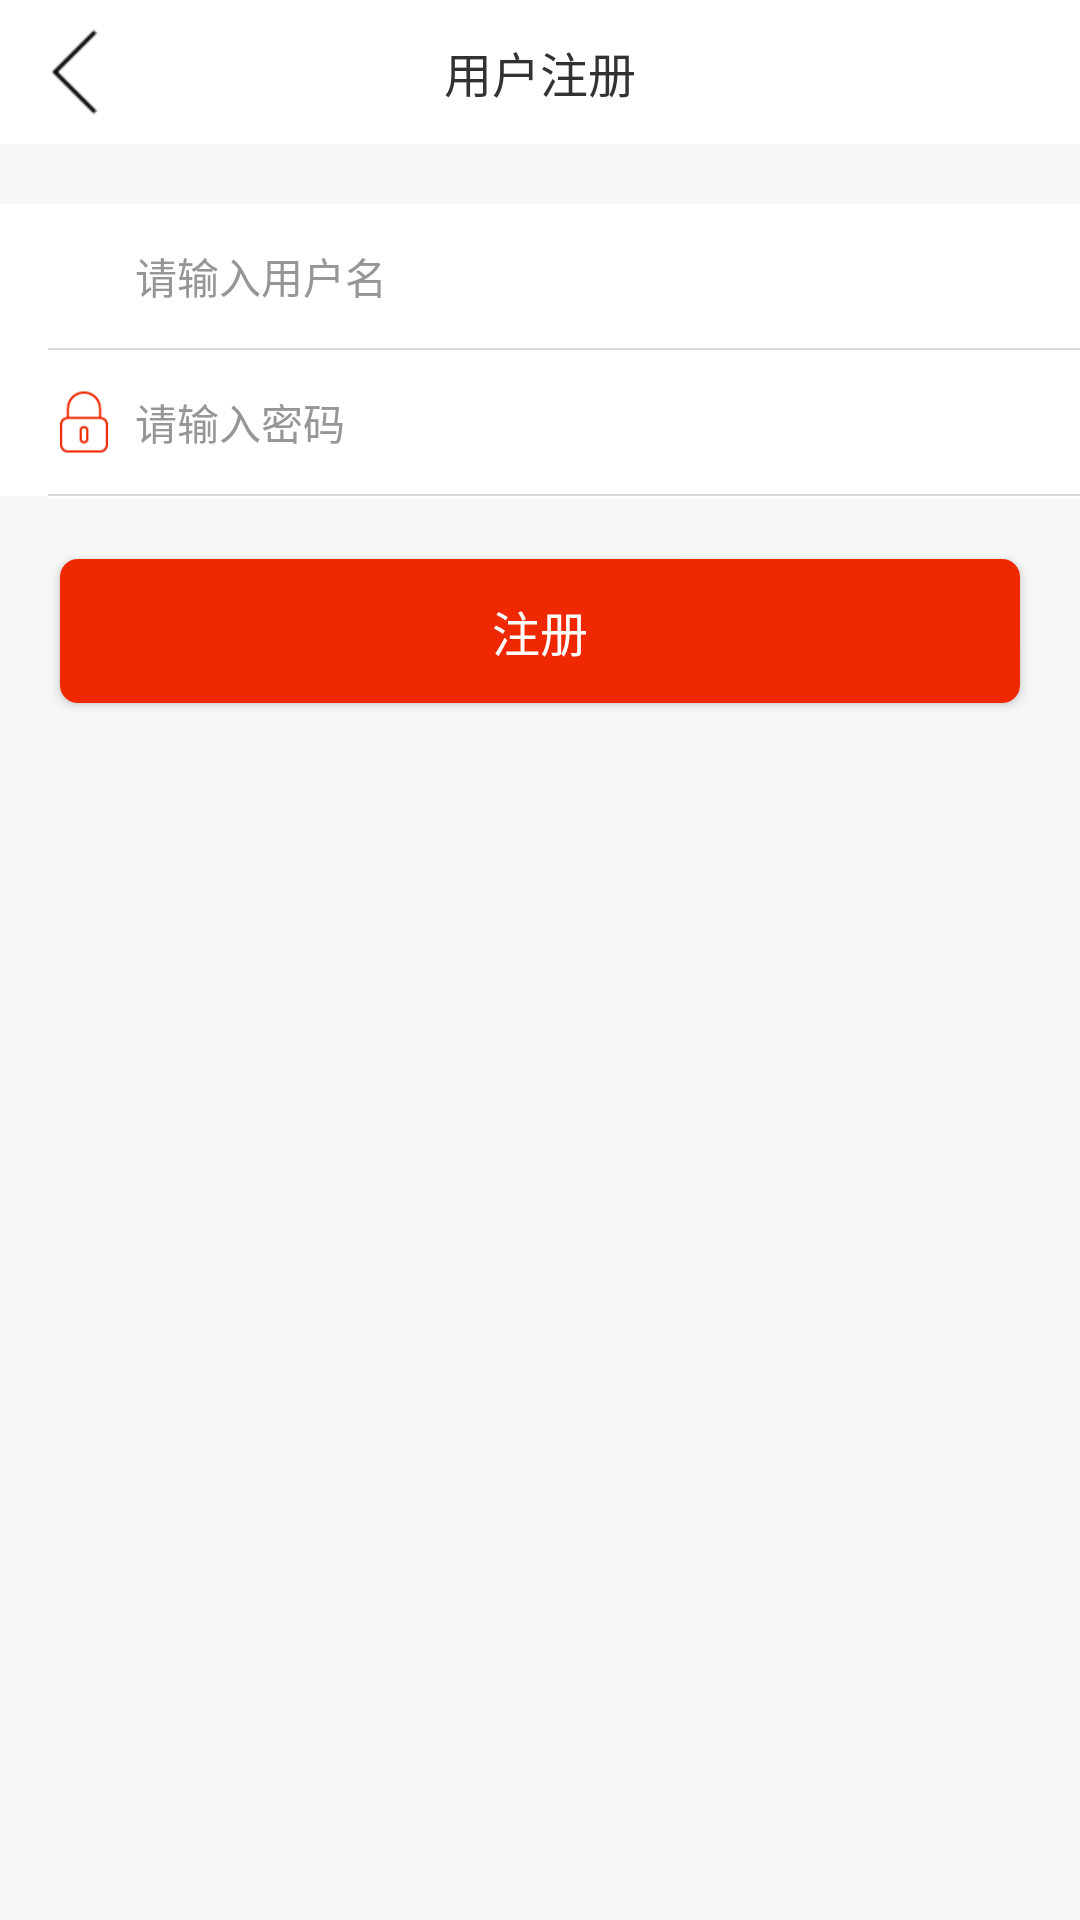

Where to tap for icons on this 1080 × 1920 app screen, as [x,y]:
left back: [75,72]
